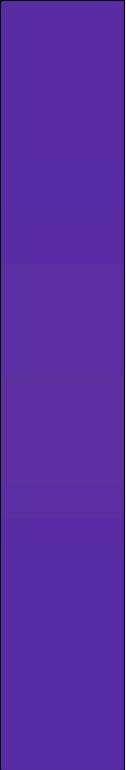safe: (9, 13, 114, 754)
